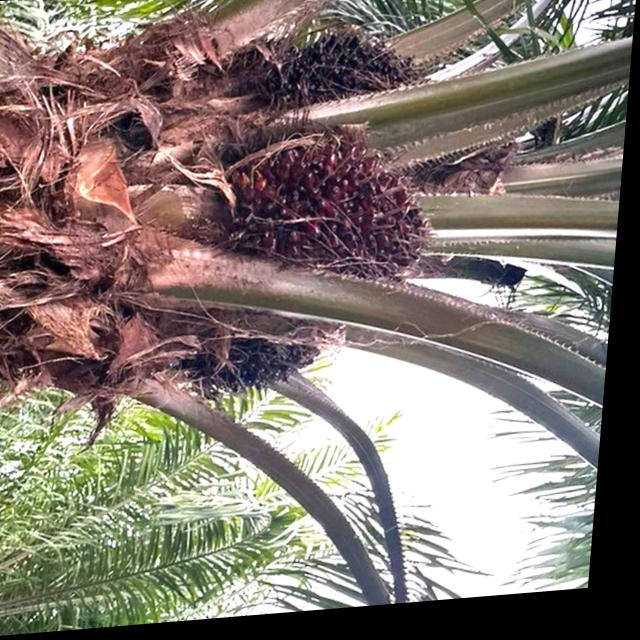ripe: (210, 117, 463, 307)
